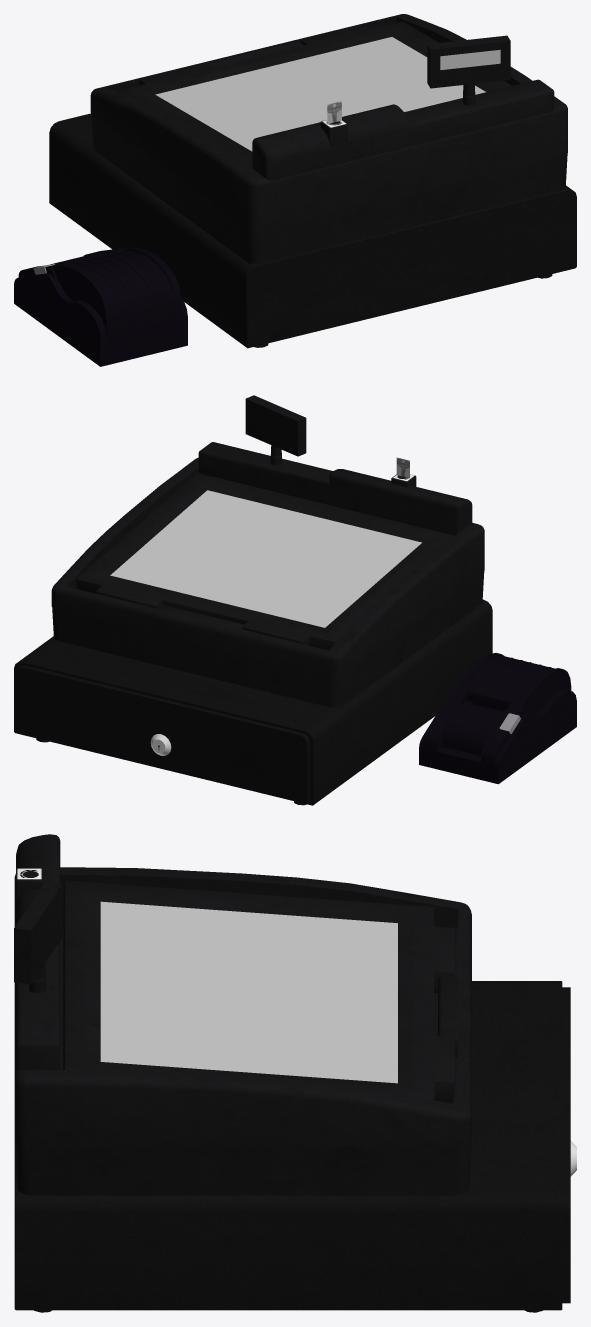
The model's file is service_cash_register.fbx.
The picture shows the model from 3 angles, top to bottom: view 1: azimuth 30°, elevation 25°; view 2: azimuth 150°, elevation 25°; view 3: azimuth 270°, elevation 25°; orthographic projection. The views are drawn at different scales.
Parts seen in each view (by area): view 1: service_cash_register, service_cash_register_screen, service_cash_register_receipt_machine; view 2: service_cash_register, service_cash_register_screen, service_cash_register_drawer, service_cash_register_receipt_machine; view 3: service_cash_register, service_cash_register_screen, service_cash_register_drawer.
Boxes of the visible parts, box(x1,y1,x2,y2) form: service_cash_register: box(49, 14, 576, 348); service_cash_register_screen: box(118, 21, 512, 168); service_cash_register_receipt_machine: box(14, 247, 187, 366); service_cash_register: box(14, 395, 492, 805); service_cash_register_screen: box(76, 473, 454, 650); service_cash_register_drawer: box(14, 665, 310, 803); service_cash_register_receipt_machine: box(419, 653, 576, 784); service_cash_register: box(14, 834, 562, 1312); service_cash_register_screen: box(62, 880, 455, 1103); service_cash_register_drawer: box(562, 987, 576, 1303).
Size of the model in its own units: 56.51 by 30.29 by 44.2.
